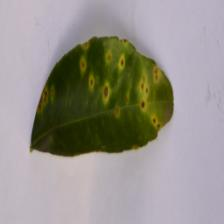canker: (74, 29, 173, 132)
